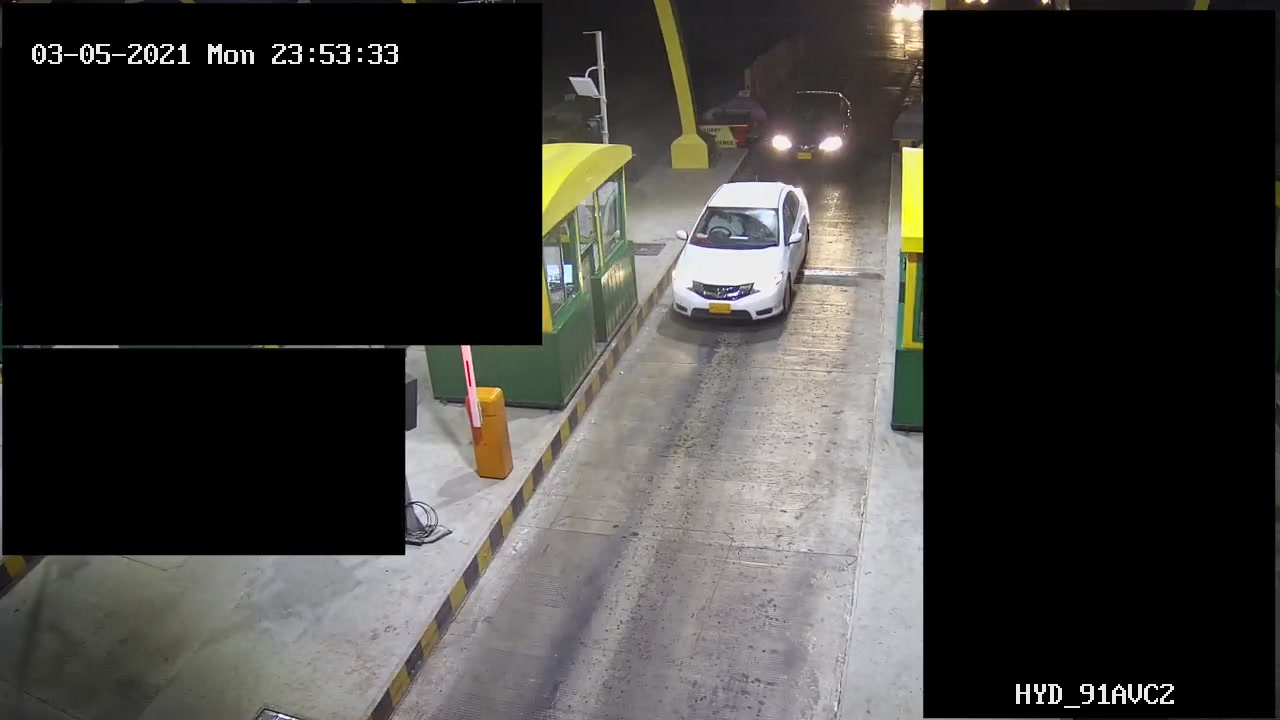F1: (660, 180, 819, 343)
